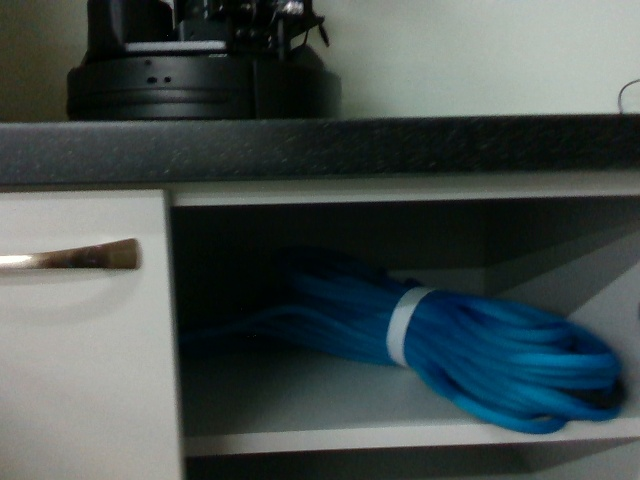rope: (287, 279, 631, 436)
